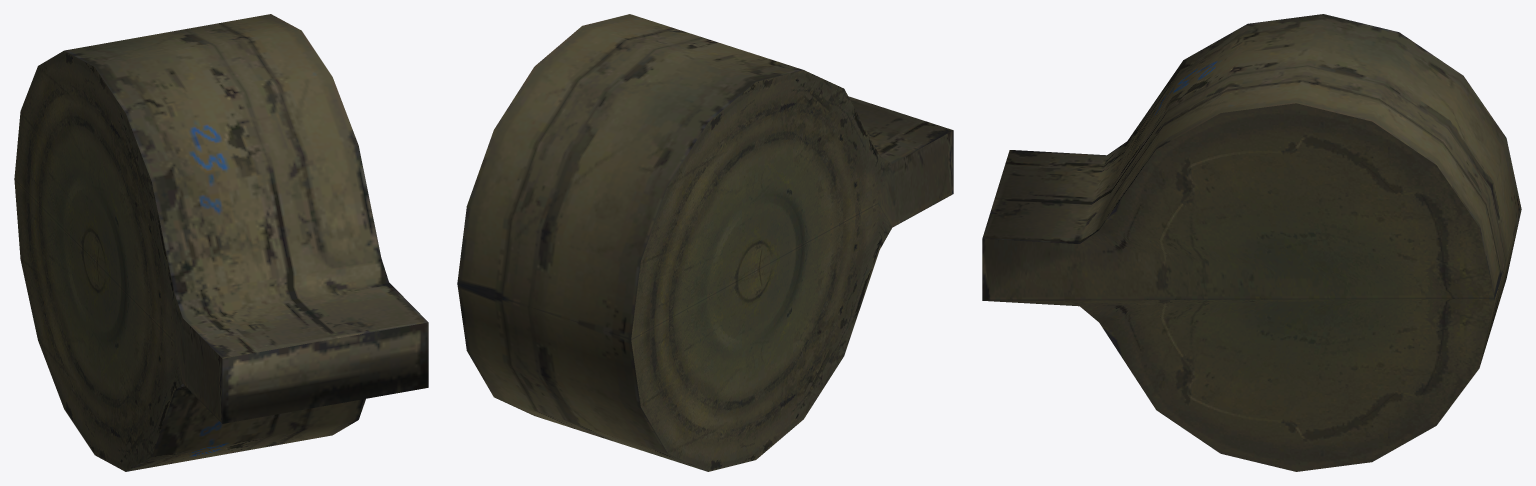
Rendered from t6_attach_mag_hamr_world_LOD0.obj.
The picture shows the model from 3 angles, left to right: view 1: azimuth 30°, elevation 25°; view 2: azimuth 150°, elevation 25°; view 3: azimuth 270°, elevation 25°; orthographic projection. The views are drawn at different scales.
Parts seen in each view (by area): view 1: mtl_t6_wpn_lmg_hamr_parts; view 2: mtl_t6_wpn_lmg_hamr_parts; view 3: mtl_t6_wpn_lmg_hamr_parts.
Boxes of the visible parts, box(x1,y1,x2,y2) form: mtl_t6_wpn_lmg_hamr_parts: box(14, 14, 428, 471); mtl_t6_wpn_lmg_hamr_parts: box(457, 14, 953, 471); mtl_t6_wpn_lmg_hamr_parts: box(982, 14, 1521, 471).
Bounding box in the file's own units: 10.17 × 14.84 × 19.68.
